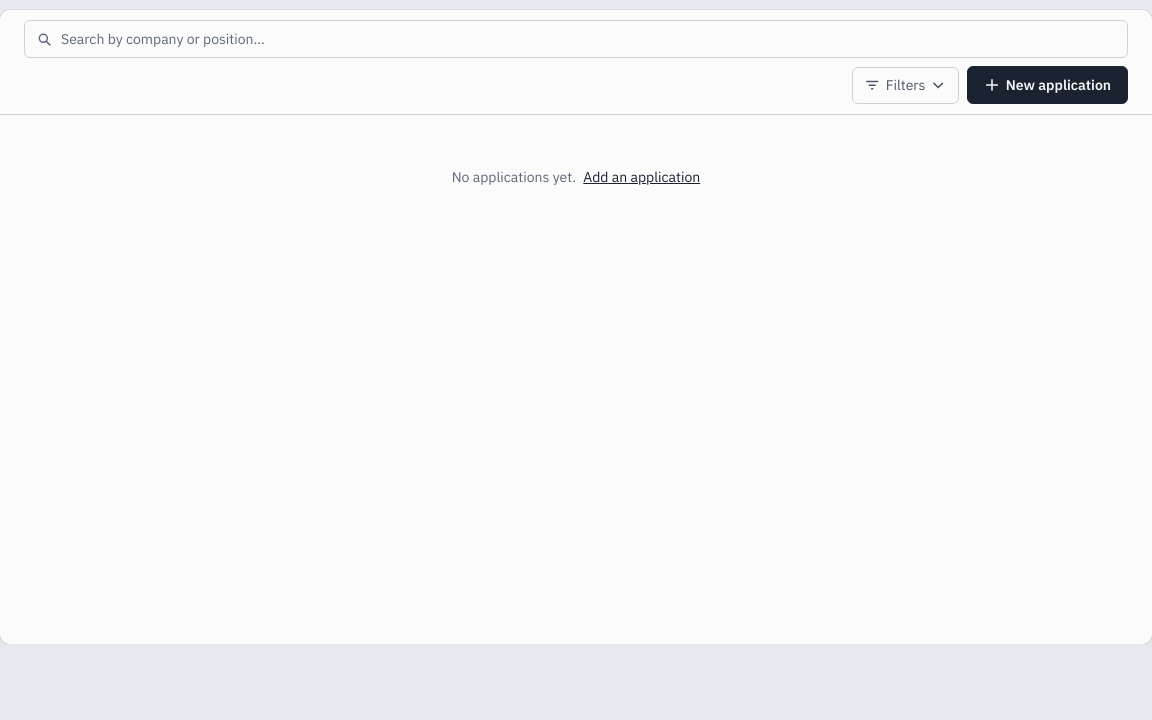
Test: ApplicationsView – empty state › offers an "Add an application" button that opens the new-application modal
Click the button with class "add-first-link": (642, 177) [583,167,700,188]
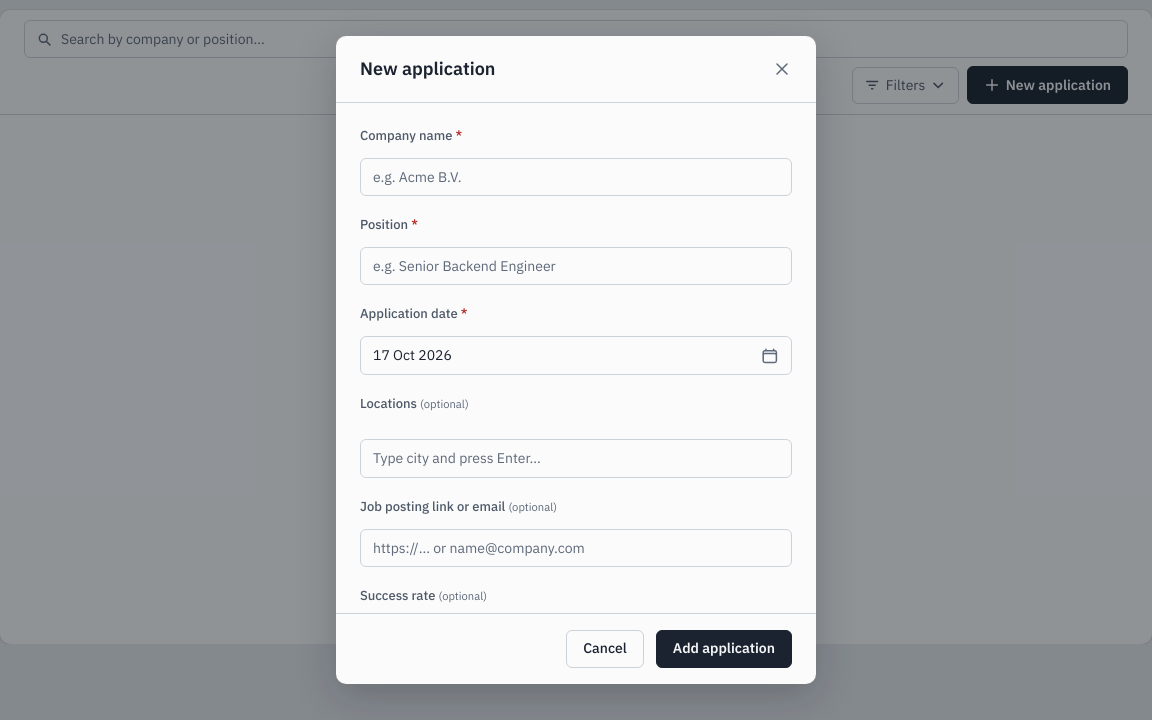
expect the element that starts with "New application" is shown: met
